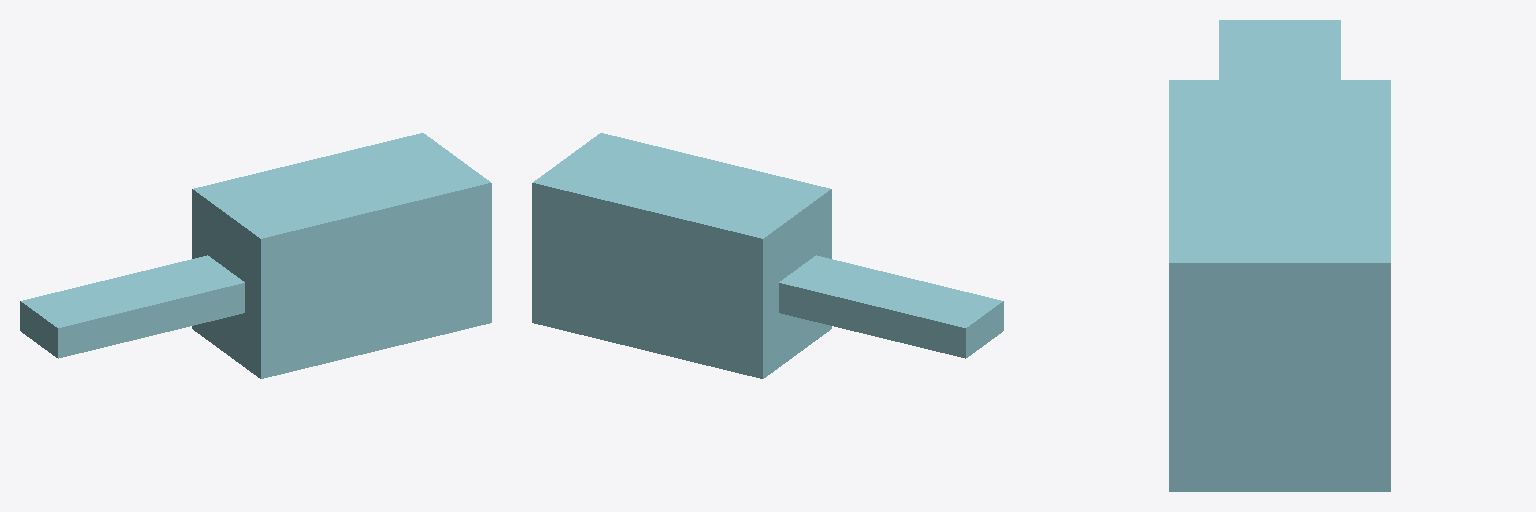
URDF robot description (cuboid_brush_v8003):
<?xml version="1.0"?>
<robot name="cuboid_brush_v8003">

  <link name="cuboid_brush_v8003">
    <!-- Handle -->
    <visual>
      <origin xyz="0 0 0" rpy="0 0 0"/>
      <geometry>
        <box size="0.07777690174303514 0.026865122012127166 0.012037883146290897"/>
      </geometry>
      <material name="material">
        <color rgba="0.639 0.847 0.882 1.0"/>
      </material>
    </visual>
    <collision>
      <origin xyz="0 0 0" rpy="0 0 0"/>
      <geometry>
        <box size="0.07777690174303514 0.026865122012127166 0.012037883146290897"/>
      </geometry>
    </collision>

    <!-- Head -->
    <visual>
      <origin xyz="0.08674072530125751 0 0" rpy="0 0 0"/>
      <geometry>
        <box size="0.09570454885947988 0.049106988563756226 0.05563660321500556"/>
      </geometry>
      <material name="material">
        <color rgba="0.639 0.847 0.882 1.0"/>
      </material>
    </visual>
    <collision>
      <origin xyz="0.08674072530125751 0 0" rpy="0 0 0"/>
      <geometry>
        <box size="0.09570454885947988 0.049106988563756226 0.05563660321500556"/>
      </geometry>
    </collision>

    <inertial>
      <density value="400.0"/>
    </inertial>
  </link>

</robot>

--- Facts derived from the render (not from the file) ---
3 views of the same robot in one strip: view 1: azimuth 30°, elevation 25°; view 2: azimuth 150°, elevation 25°; view 3: azimuth 270°, elevation 25° (orthographic).
Robot: cuboid_brush_v8003 — 1 links, 0 joints (none); root link cuboid_brush_v8003; default pose: every joint at zero.
Visible links, largest first — view 1: cuboid_brush_v8003; view 2: cuboid_brush_v8003; view 3: cuboid_brush_v8003.
Boxes of the visible links, box(x1,y1,x2,y2) form: cuboid_brush_v8003: box(20, 133, 491, 378); cuboid_brush_v8003: box(532, 133, 1003, 378); cuboid_brush_v8003: box(1169, 20, 1390, 491).
Bounding box of the posed robot: 0.1735 × 0.0491 × 0.0556 m (x, y, z).
Geometry: primitives only (box / cylinder / sphere), no mesh files.
